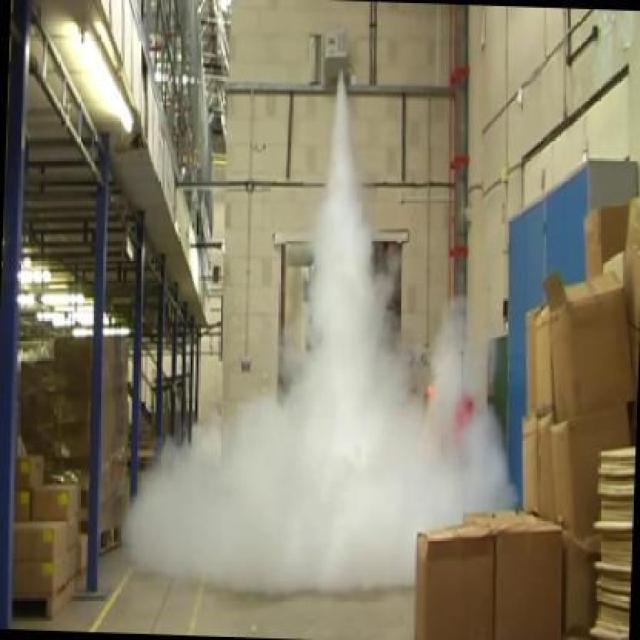fire: (115, 362, 520, 606), (294, 97, 412, 360)
